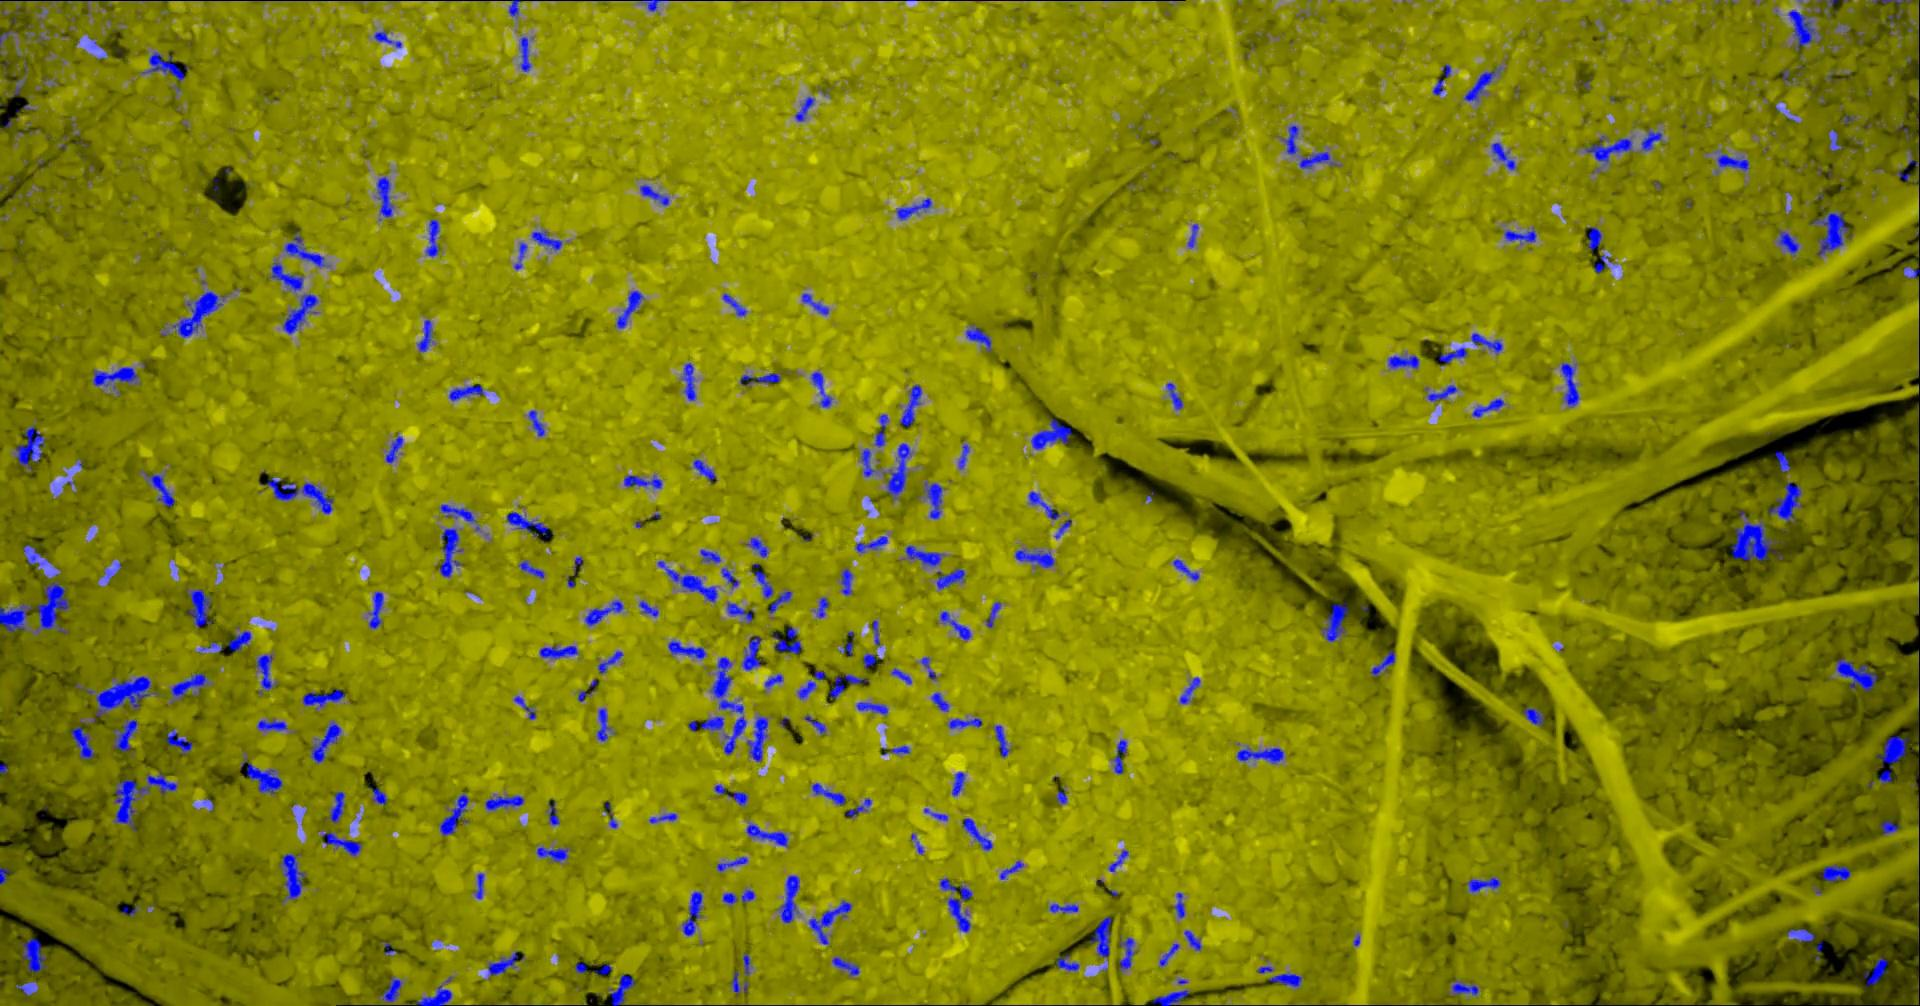ant: (710, 655, 745, 754), (259, 476, 333, 513), (171, 290, 227, 337), (657, 560, 717, 602), (808, 899, 852, 944), (1810, 211, 1851, 257), (938, 876, 971, 932), (1876, 735, 1909, 784), (240, 757, 282, 794), (284, 232, 329, 267), (1787, 9, 1822, 51), (1583, 135, 1632, 165), (282, 293, 317, 334), (1462, 66, 1501, 102), (1835, 658, 1877, 691), (140, 51, 184, 81), (886, 443, 910, 499), (15, 426, 44, 471), (310, 721, 342, 763), (1768, 481, 1801, 521), (278, 852, 305, 901), (1030, 418, 1072, 448), (505, 511, 552, 537), (169, 672, 210, 702), (439, 793, 469, 835), (483, 950, 524, 979), (1895, 135, 1919, 184), (439, 527, 463, 577), (140, 471, 174, 506), (1321, 601, 1349, 641), (91, 366, 138, 389), (615, 290, 643, 328), (439, 503, 479, 530), (745, 822, 789, 846), (828, 673, 869, 699), (777, 875, 799, 922), (269, 260, 302, 291), (185, 588, 211, 627), (584, 600, 623, 625), (770, 624, 801, 654), (963, 817, 992, 850), (745, 716, 767, 761), (254, 654, 278, 694), (682, 890, 702, 936), (1088, 916, 1111, 956), (899, 384, 921, 426), (321, 832, 361, 855), (938, 611, 970, 639), (110, 718, 137, 751), (20, 937, 46, 972), (1029, 492, 1059, 520), (1559, 362, 1578, 406), (1236, 746, 1283, 763), (730, 953, 750, 993), (905, 545, 943, 567), (797, 669, 825, 699), (895, 197, 931, 220), (750, 563, 773, 598), (608, 973, 634, 1005), (302, 688, 344, 708), (70, 727, 94, 760), (923, 481, 943, 520), (810, 371, 832, 406), (811, 782, 844, 805), (714, 784, 747, 807), (1015, 547, 1054, 567), (1490, 142, 1516, 170), (415, 984, 451, 1005), (376, 175, 392, 218), (22, 544, 50, 569), (1470, 332, 1502, 353), (965, 324, 990, 351), (667, 640, 705, 658), (166, 728, 192, 754), (1863, 956, 1887, 984), (1716, 150, 1749, 170), (1298, 151, 1338, 168), (936, 567, 965, 589), (378, 976, 403, 1002), (1117, 935, 1135, 970), (1470, 398, 1503, 417), (1370, 650, 1396, 674), (801, 292, 828, 315), (597, 650, 623, 673), (325, 791, 344, 823), (484, 795, 523, 810), (639, 184, 668, 205), (448, 384, 484, 400), (1423, 384, 1457, 401), (855, 535, 888, 553), (742, 636, 759, 669), (531, 231, 561, 250), (681, 362, 696, 400), (1150, 989, 1189, 1005), (1777, 229, 1798, 255), (1172, 559, 1199, 580), (739, 372, 780, 386), (536, 846, 570, 862), (368, 591, 383, 627), (1437, 345, 1467, 365), (1821, 862, 1850, 882), (692, 459, 715, 483), (1503, 226, 1537, 243), (726, 602, 753, 622), (1178, 676, 1199, 702), (425, 218, 439, 257), (623, 474, 662, 488), (830, 956, 858, 976), (417, 319, 433, 351), (993, 725, 1010, 757), (723, 293, 745, 316), (768, 589, 791, 612), (688, 715, 723, 730), (513, 695, 535, 719), (385, 434, 403, 464), (844, 798, 871, 817), (1467, 876, 1500, 892), (1269, 972, 1302, 987), (538, 645, 578, 658), (373, 29, 401, 47), (858, 448, 876, 476), (1641, 128, 1662, 151), (794, 97, 814, 121), (227, 630, 251, 650), (1158, 942, 1178, 967), (518, 559, 543, 578), (723, 889, 754, 904), (1112, 739, 1126, 774), (1164, 382, 1182, 409), (1283, 124, 1298, 155), (745, 537, 768, 558), (1107, 848, 1128, 871), (716, 856, 747, 871), (874, 414, 888, 447), (855, 701, 888, 715), (596, 708, 610, 741), (999, 860, 1023, 879), (1387, 354, 1418, 368), (1811, 0, 1837, 17), (527, 409, 543, 436), (984, 601, 1001, 627), (804, 714, 825, 734), (577, 678, 596, 701), (102, 561, 121, 583), (1785, 929, 1815, 942), (1451, 979, 1478, 995), (1055, 954, 1079, 970), (947, 716, 982, 728), (1523, 708, 1543, 727), (721, 567, 739, 588), (1774, 450, 1790, 473), (513, 243, 527, 269), (839, 631, 855, 655), (919, 655, 935, 680), (1592, 254, 1611, 273), (930, 692, 949, 711), (368, 785, 387, 804), (519, 36, 530, 71), (1053, 518, 1070, 539), (637, 600, 658, 617), (1183, 930, 1201, 950), (546, 798, 559, 826), (1586, 226, 1601, 249), (257, 719, 287, 730), (603, 801, 616, 828), (951, 771, 965, 795), (923, 807, 947, 821), (639, 0, 668, 11), (648, 812, 676, 823), (891, 667, 910, 683), (1048, 903, 1078, 913), (841, 568, 852, 594), (814, 597, 828, 619), (15, 981, 37, 995), (1829, 128, 1841, 151), (862, 653, 881, 668), (764, 673, 783, 688), (1879, 819, 1898, 835), (11, 76, 25, 97), (957, 443, 969, 467), (698, 549, 720, 561), (474, 873, 484, 899), (1173, 892, 1183, 918), (881, 746, 909, 754), (1187, 224, 1197, 248), (871, 620, 880, 647), (508, 0, 522, 17), (1869, 0, 1911, 5), (1782, 67, 1796, 83), (1902, 265, 1919, 278), (1432, 77, 1444, 95), (122, 904, 141, 915), (594, 964, 611, 976), (1055, 786, 1065, 803), (0, 868, 9, 885), (574, 962, 587, 973)
